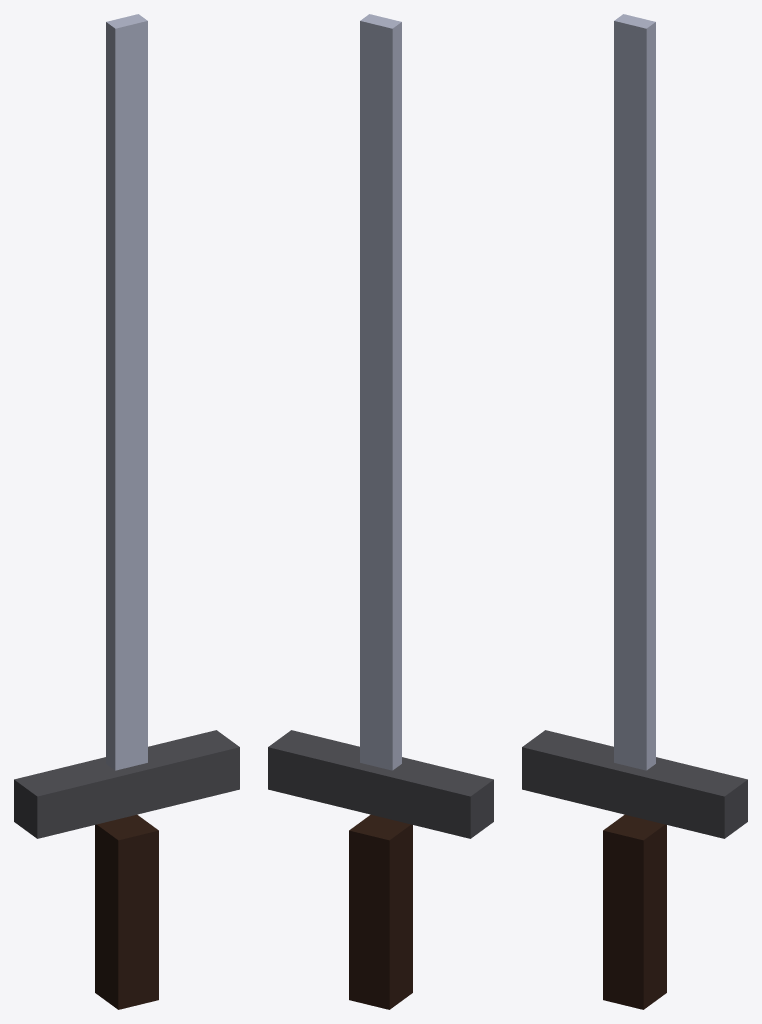
The model's file is tribunal_sword.obj.
3 renders of one model, left to right at view 1: azimuth 30°, elevation 25°; view 2: azimuth 150°, elevation 25°; view 3: azimuth 330°, elevation 25°, orthographic.
Parts seen in each view (by area): view 1: blade, guard, hilt; view 2: blade, guard, hilt; view 3: blade, guard, hilt.
Boxes of the visible parts, <box> form: blade: <box>106,14,147,770</box>; guard: <box>14,730,239,838</box>; hilt: <box>95,814,158,1009</box>; blade: <box>360,14,401,770</box>; guard: <box>268,730,493,838</box>; hilt: <box>349,814,412,1009</box>; blade: <box>614,14,655,770</box>; guard: <box>522,730,747,838</box>; hilt: <box>603,814,666,1009</box>.
Bounding box in the file's own units: 0.25 × 1.15 × 0.05.
